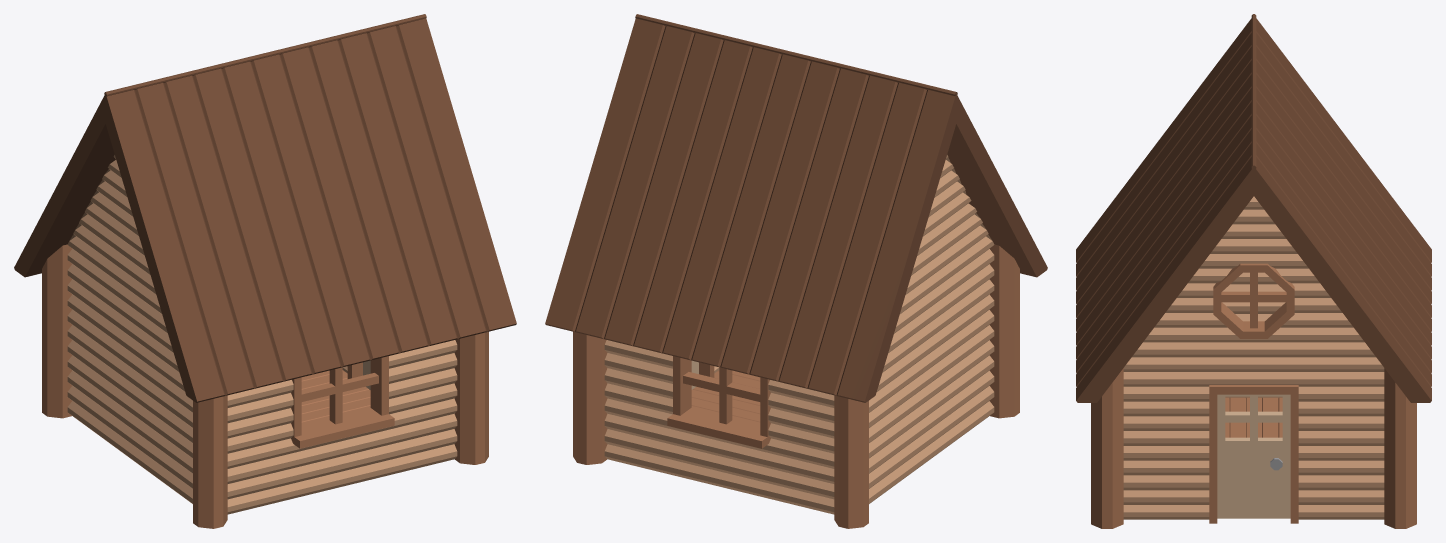
Rendered from Cabin1.fbx.
3 renders of one model, left to right at view 1: azimuth 30°, elevation 25°; view 2: azimuth 150°, elevation 25°; view 3: azimuth 270°, elevation 25°, orthographic. The views are drawn at different scales.
Visible parts, largest first — view 1: Cabin1; view 2: Cabin1; view 3: Cabin1, Cabin1Door.
Part boxes in pixels (<box>): Cabin1: <box>14,14,516,528</box>; Cabin1: <box>545,14,1047,528</box>; Cabin1: <box>1076,14,1431,528</box>; Cabin1Door: <box>1217,394,1290,518</box>.
Size of the model in its own units: 770 by 877 by 764.
